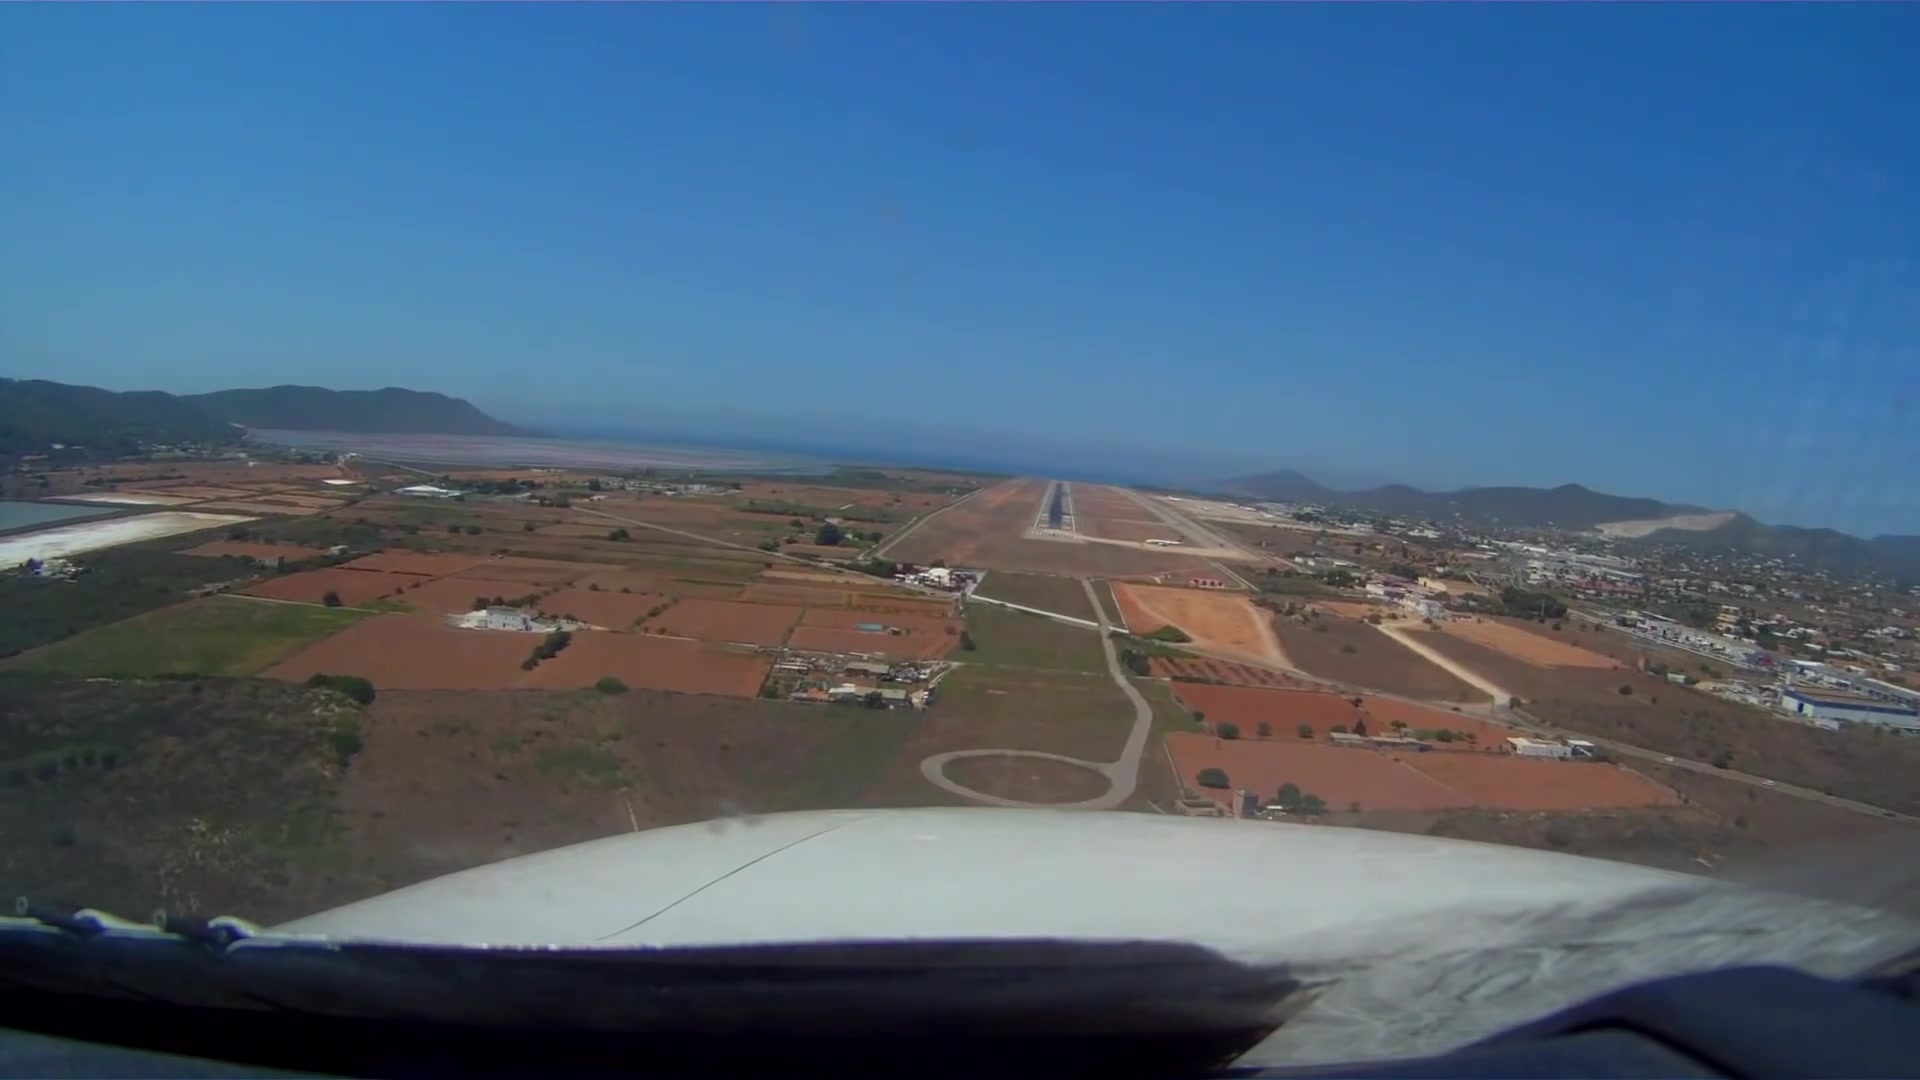entrance: (1031, 529, 1075, 541)
runway: (1027, 479, 1077, 545)
